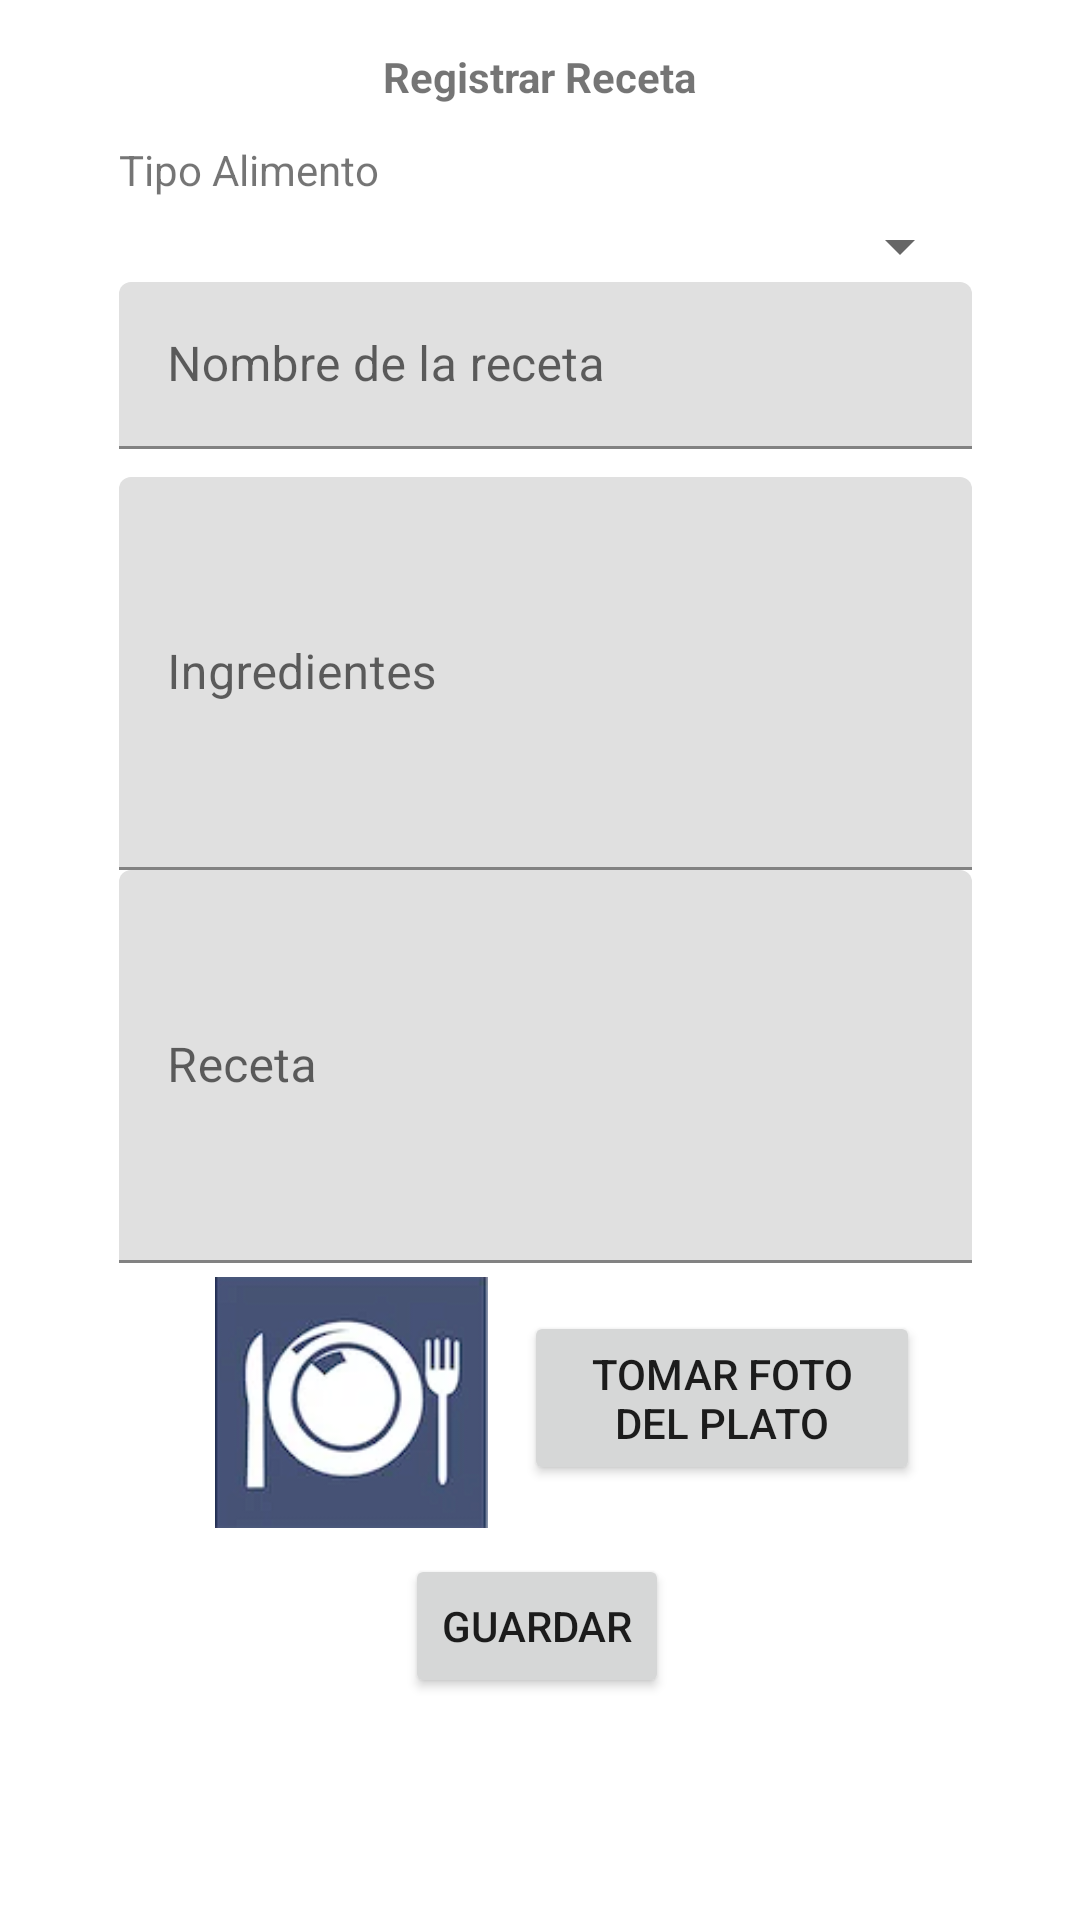

Icons on this 1080x1920 Android screen, each with the point to tap as [x,y]:
comida: [351,1402]
